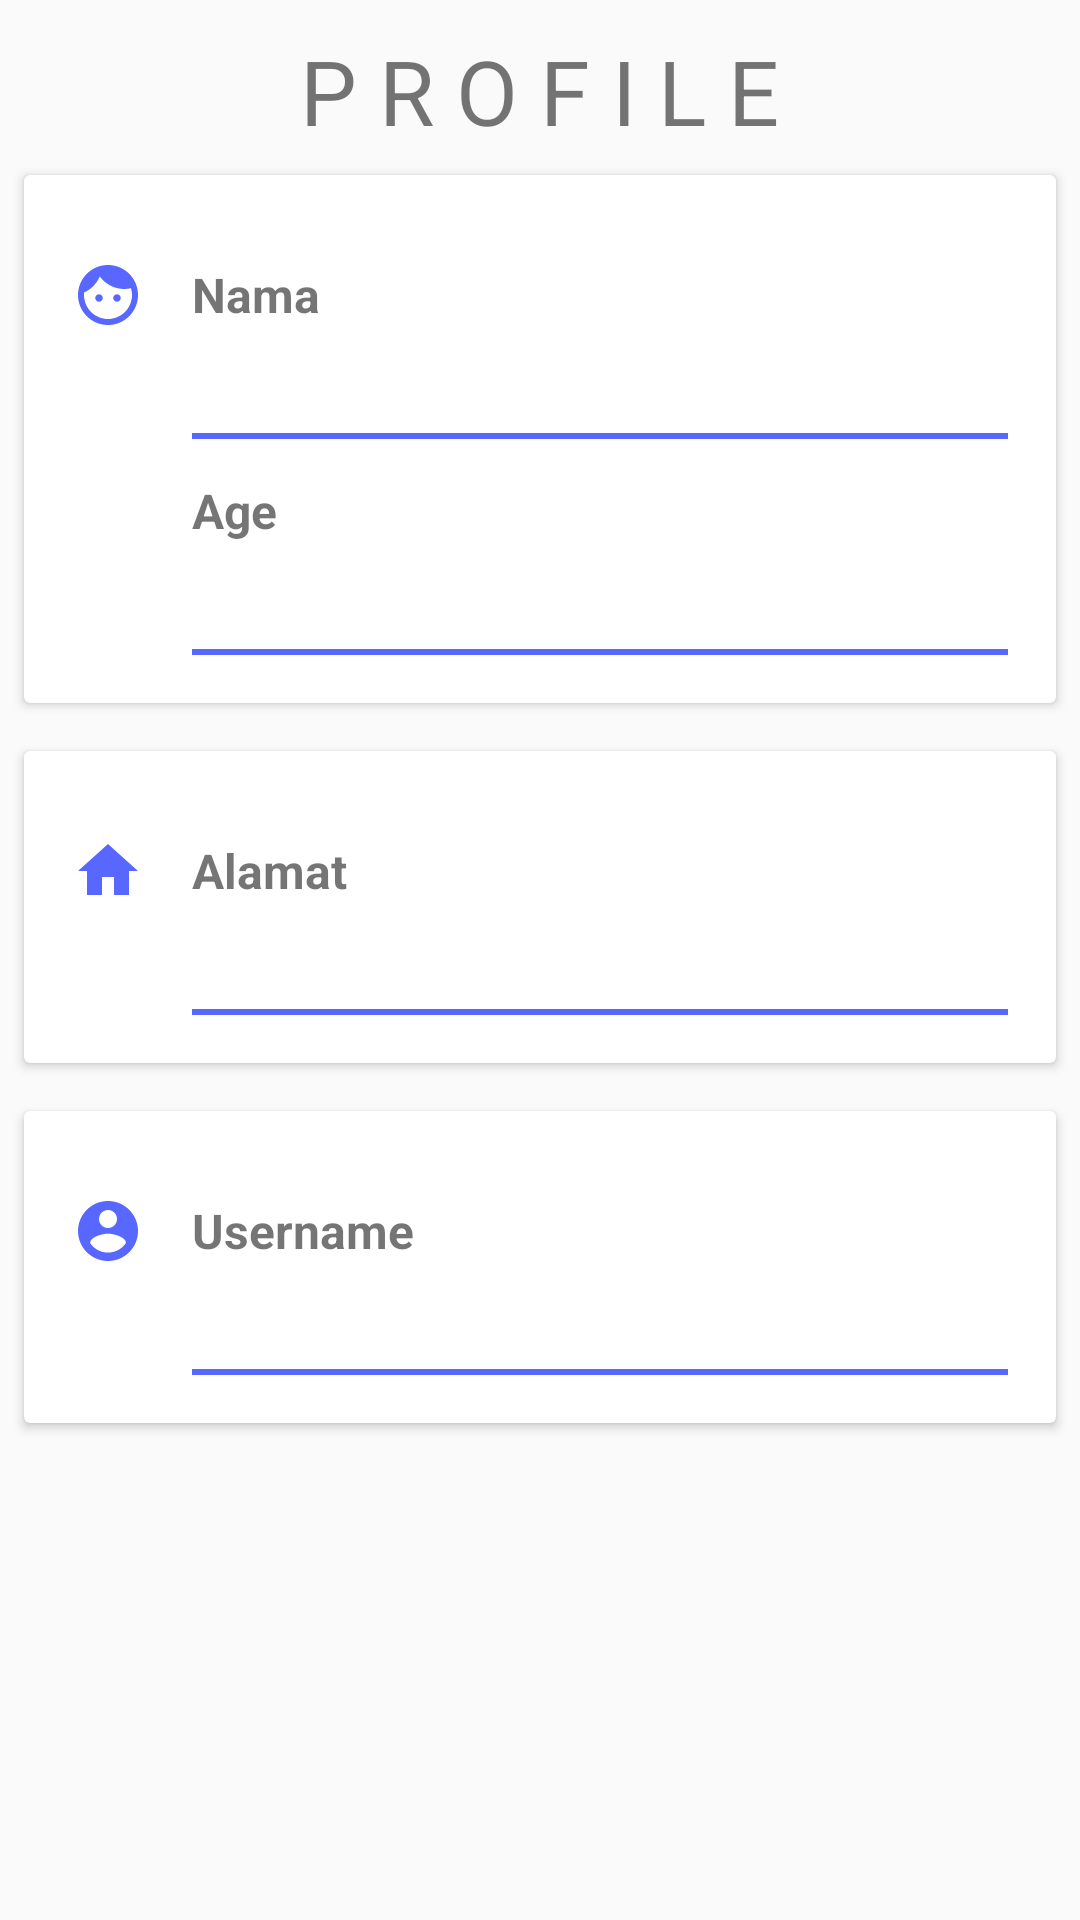

Icon bounding boxes for this 1080x1920 phone screenshot, format Rect(x1, y1, x2, y2):
account circle: Rect(78, 1201, 138, 1261)
face: Rect(78, 265, 138, 325)
home: Rect(78, 844, 138, 895)
